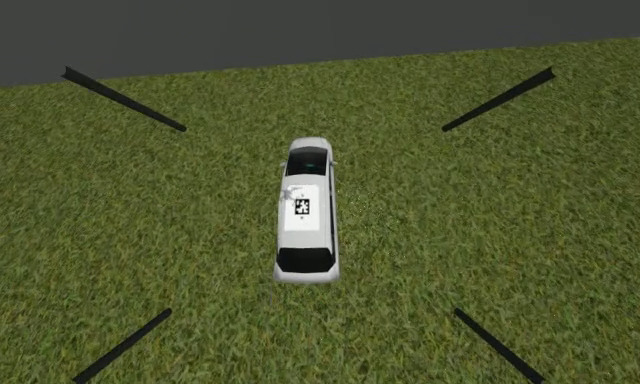Car: (276, 136, 340, 284)
Landing Pad: (284, 184, 321, 232)
